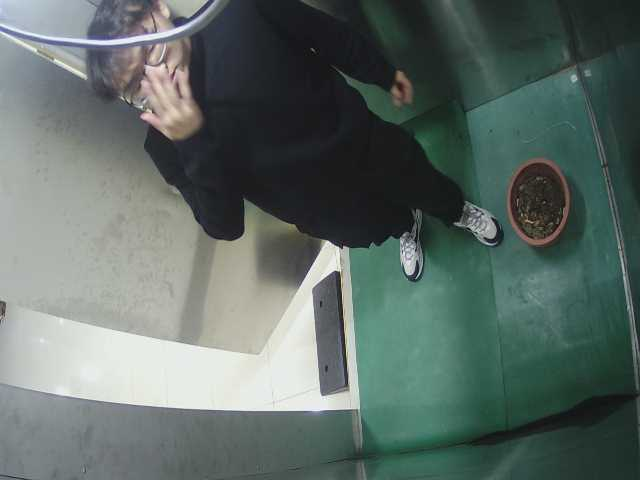flowerpot: (490, 155, 582, 251)
person: (96, 4, 501, 271)
